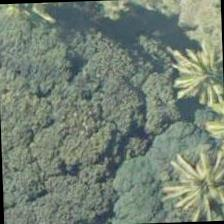Kelapa_Sawit: (151, 18, 223, 111), (164, 141, 223, 223)
